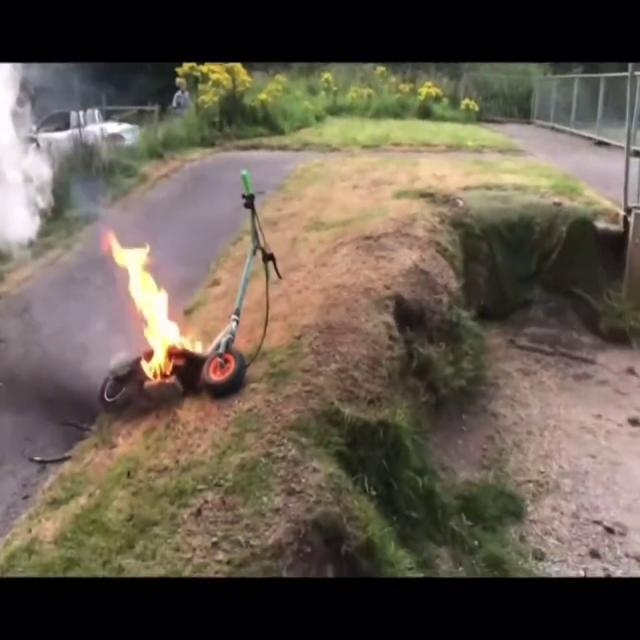Fire: (111, 228, 193, 385)
